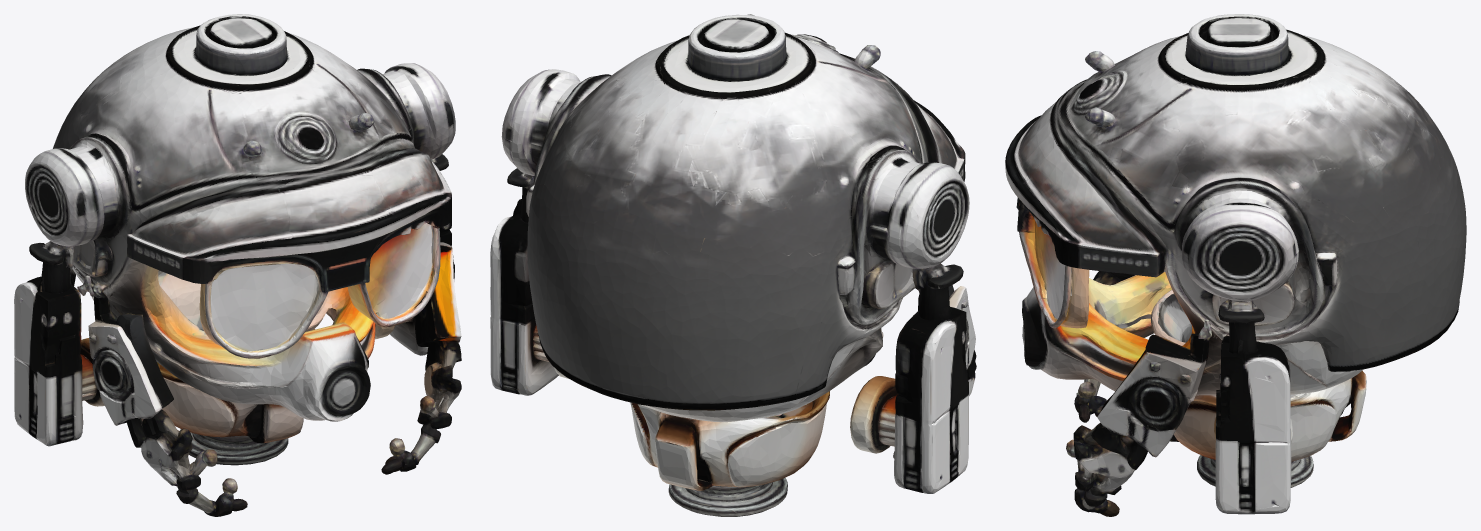
File: 3D_Womp_Prompt 01.glb
3 views of the same model, side by side, from view 1: azimuth 30°, elevation 25°; view 2: azimuth 150°, elevation 25°; view 3: azimuth 270°, elevation 25° (orthographic). The views are drawn at different scales.
Bounding box in the file's own units: 99.99 × 99.96 × 92.58.
Materials: 1 (1 with a texture image).
